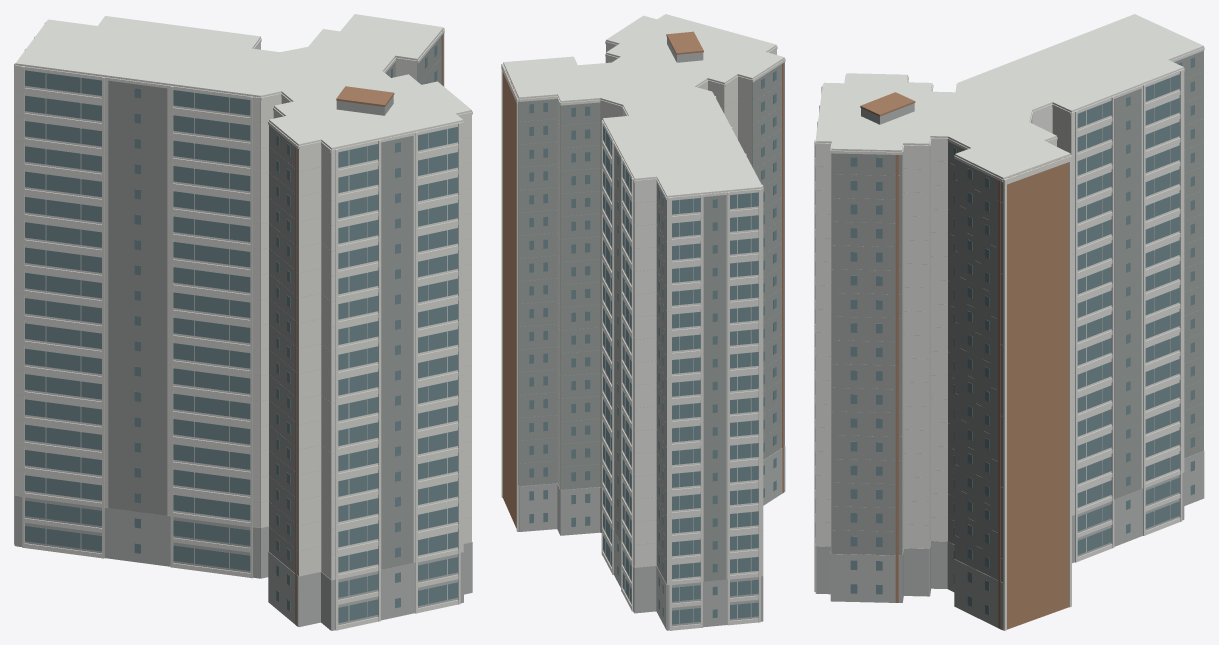
File: bespoke-geumho-park-hills-101.glb
The picture shows the model from 3 angles, left to right: view 1: azimuth 30°, elevation 25°; view 2: azimuth 150°, elevation 25°; view 3: azimuth 270°, elevation 25°; orthographic projection. The views are drawn at different scales.
Visible parts, largest first — view 1: Geumho101_editable_Geumho101_broad_white_facade_frames002, Geumho101_editable_Geumho101_turquoise_balcony_glazing002, Geumho101_editable_Geumho101_grey_service_pier002, Geumho101_editable_Geumho101_light_grey_solid_wall002, Geumho101_editable_Geumho101_muted_terracotta_accents002; view 2: Geumho101_editable_Geumho101_broad_white_facade_frames002, Geumho101_editable_Geumho101_grey_service_pier002, Geumho101_editable_Geumho101_turquoise_balcony_glazing002, Geumho101_editable_Geumho101_light_grey_solid_wall002, Geumho101_editable_Geumho101_muted_terracotta_accents002; view 3: Geumho101_editable_Geumho101_broad_white_facade_frames002, Geumho101_editable_Geumho101_grey_service_pier002, Geumho101_editable_Geumho101_muted_terracotta_accents002, Geumho101_editable_Geumho101_turquoise_balcony_glazing002, Geumho101_editable_Geumho101_light_grey_solid_wall002.
Boxes of the visible parts, x1,y1,x2,y2 form: Geumho101_editable_Geumho101_broad_white_facade_frames002: (14,14,472,630); Geumho101_editable_Geumho101_turquoise_balcony_glazing002: (25,44,457,623); Geumho101_editable_Geumho101_grey_service_pier002: (108,29,443,575); Geumho101_editable_Geumho101_light_grey_solid_wall002: (14,57,472,630); Geumho101_editable_Geumho101_muted_terracotta_accents002: (295,31,443,625); Geumho101_editable_Geumho101_broad_white_facade_frames002: (501,14,785,630); Geumho101_editable_Geumho101_grey_service_pier002: (503,61,784,584); Geumho101_editable_Geumho101_turquoise_balcony_glazing002: (529,70,776,624); Geumho101_editable_Geumho101_light_grey_solid_wall002: (518,37,785,630); Geumho101_editable_Geumho101_muted_terracotta_accents002: (502,31,783,528); Geumho101_editable_Geumho101_broad_white_facade_frames002: (814,14,1204,630); Geumho101_editable_Geumho101_grey_service_pier002: (831,49,1203,629); Geumho101_editable_Geumho101_muted_terracotta_accents002: (860,92,1069,629); Geumho101_editable_Geumho101_turquoise_balcony_glazing002: (815,57,1194,615); Geumho101_editable_Geumho101_light_grey_solid_wall002: (815,72,1204,630).
Bounding box in the file's own units: 41.45 × 54.25 × 41.47.
